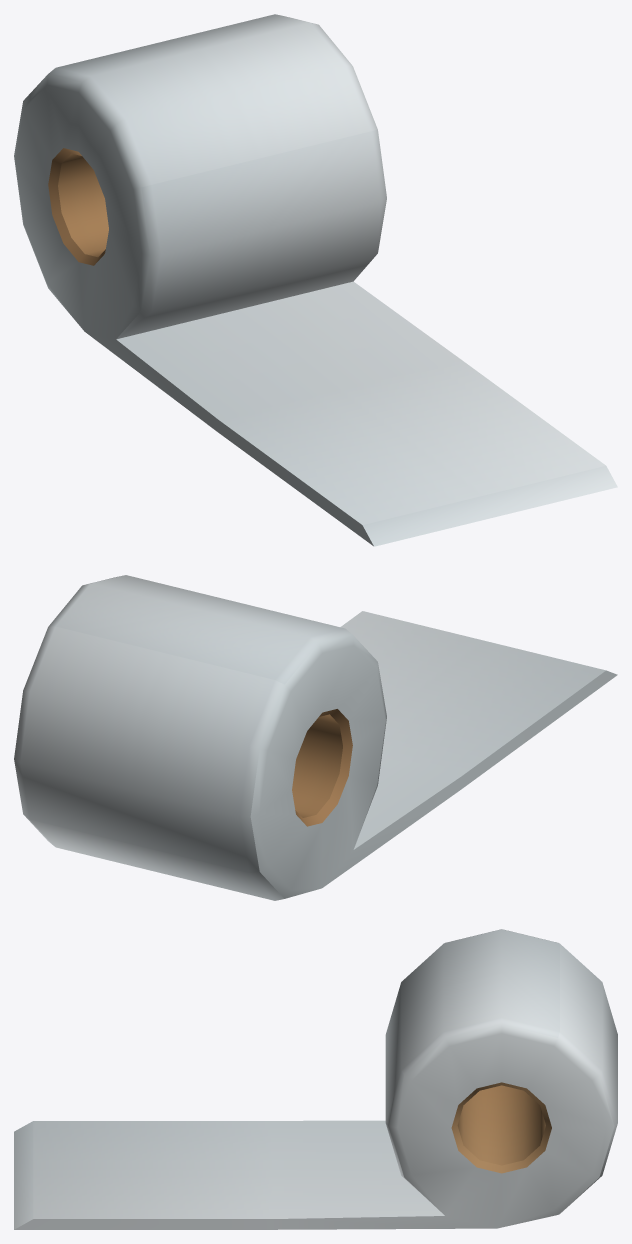
File: toiletpaper_B.gltf
3 renders of one model, top to bottom at view 1: azimuth 30°, elevation 25°; view 2: azimuth 150°, elevation 25°; view 3: azimuth 270°, elevation 25°, orthographic. The views are drawn at different scales.
Visible parts, largest first — view 1: toiletpaper_B; view 2: toiletpaper_B; view 3: toiletpaper_B.
Boxes of the visible parts, <box> form: toiletpaper_B: <box>14,14,617,546</box>; toiletpaper_B: <box>14,575,617,900</box>; toiletpaper_B: <box>14,929,617,1229</box>.
Size of the model in its own units: 0.4 by 0.3936 by 1.04.
Materials: 1 (1 with a texture image).
